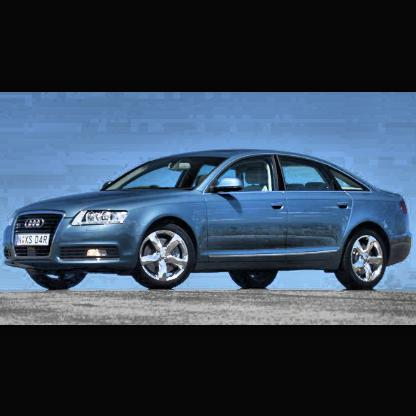Audi S6 Sedan 2011: (2, 139, 416, 321)
